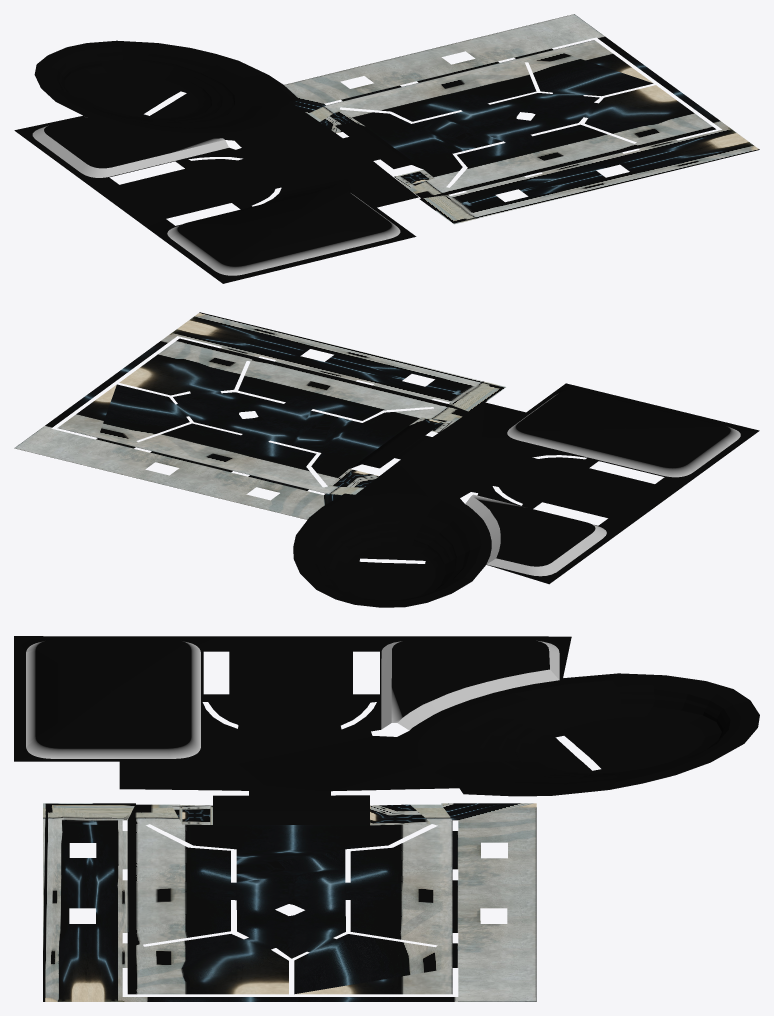
The model's file is WalkArea_eth-SWatGdRg.glb.
The picture shows the model from 3 angles, top to bottom: view 1: azimuth 30°, elevation 25°; view 2: azimuth 150°, elevation 25°; view 3: azimuth 270°, elevation 25°; orthographic projection. The views are drawn at different scales.
Parts seen in each view (by area): view 1: polySurface19; view 2: polySurface19; view 3: polySurface19.
Boxes of the visible parts, x1,y1,x2,y2 form: polySurface19: (14, 14, 759, 283); polySurface19: (14, 312, 759, 607); polySurface19: (14, 636, 759, 1001).
Size of the model in its own units: 88.64 by 2.74 by 78.57.
Materials: 2 (1 with a texture image).
